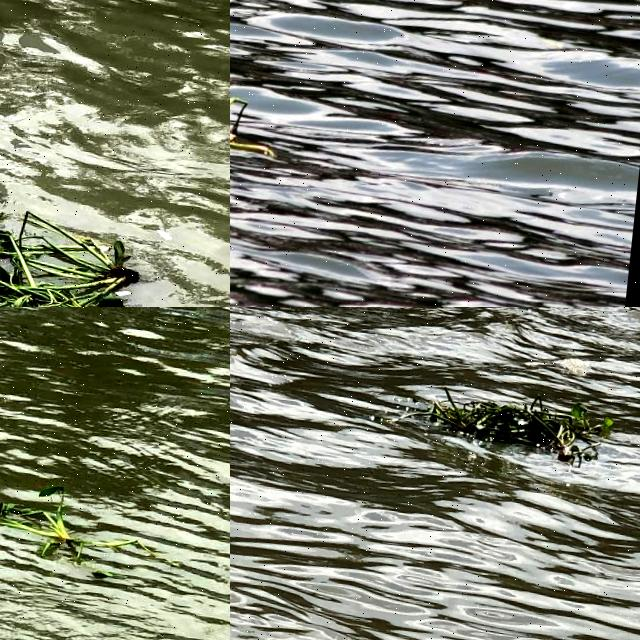water-hyacinth: (1, 193, 231, 308), (393, 371, 612, 464), (1, 476, 165, 572)
